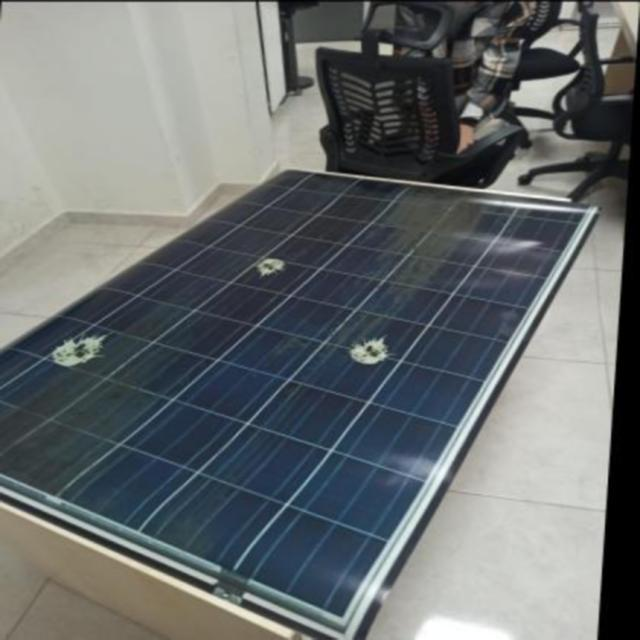soiled: (9, 170, 594, 624)
